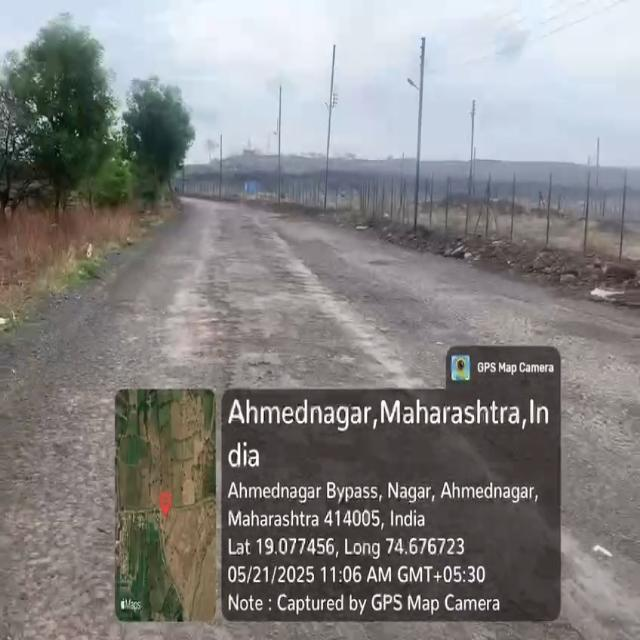damage surface: (301, 237, 438, 386), (14, 364, 84, 628), (196, 262, 290, 397)
